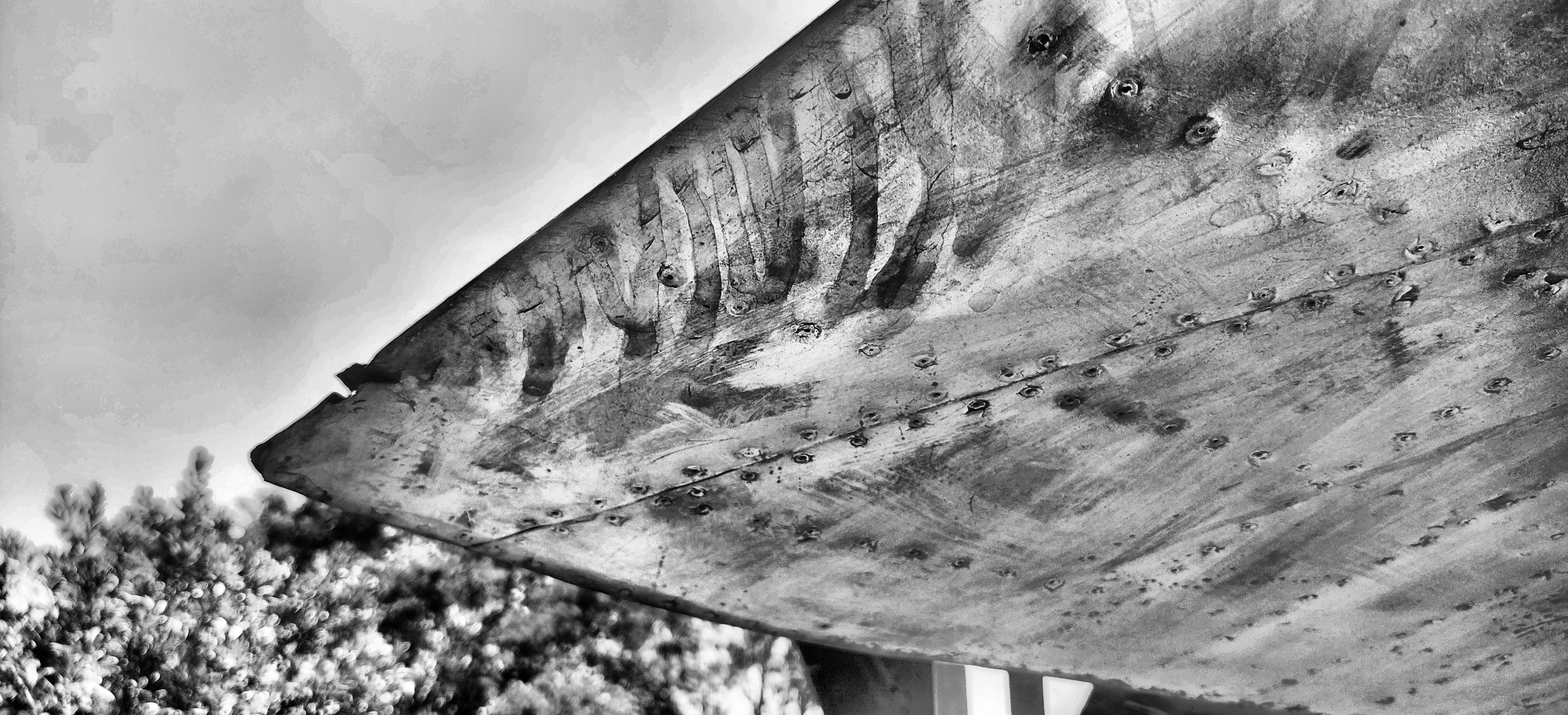crack: (338, 362, 405, 388)
missing-head: (968, 400, 989, 412), (794, 451, 813, 464), (1064, 395, 1081, 409), (1156, 342, 1171, 357), (1037, 34, 1053, 48), (1117, 82, 1135, 94), (849, 436, 868, 447), (802, 427, 817, 440), (1021, 387, 1037, 399), (698, 502, 710, 515), (742, 470, 755, 482), (1304, 299, 1320, 308), (1164, 422, 1176, 434), (907, 547, 920, 558), (1111, 332, 1122, 345), (690, 465, 702, 476), (1253, 449, 1266, 459), (1209, 436, 1222, 446), (656, 498, 672, 506), (1183, 312, 1193, 324), (932, 388, 942, 400), (1197, 125, 1209, 135), (1115, 409, 1126, 419), (1047, 354, 1056, 366), (955, 559, 967, 568), (690, 489, 703, 497), (868, 409, 879, 418), (665, 273, 676, 282), (1467, 253, 1479, 261), (1337, 187, 1345, 199), (593, 498, 604, 506), (634, 485, 645, 493), (1494, 218, 1505, 226), (551, 507, 558, 519), (1005, 370, 1014, 379), (1544, 227, 1554, 235), (1231, 323, 1244, 329), (805, 528, 814, 536), (920, 357, 929, 365), (1418, 243, 1426, 252), (804, 325, 811, 335)
paint-peel-off: (1504, 268, 1529, 284), (1543, 270, 1564, 286), (1398, 286, 1416, 302)
